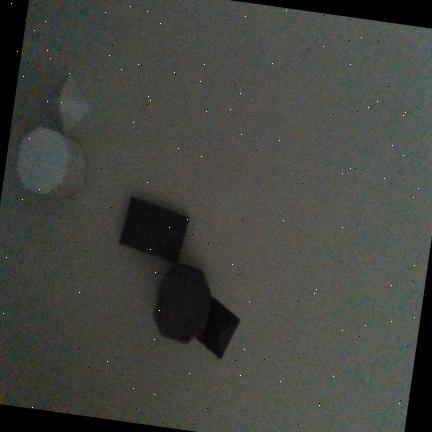Paralelepipedo: (119, 196, 189, 263)
Piramide: (45, 73, 93, 135), (195, 297, 240, 358)
Prisma_hexagonal: (17, 125, 86, 195), (153, 264, 212, 344)
